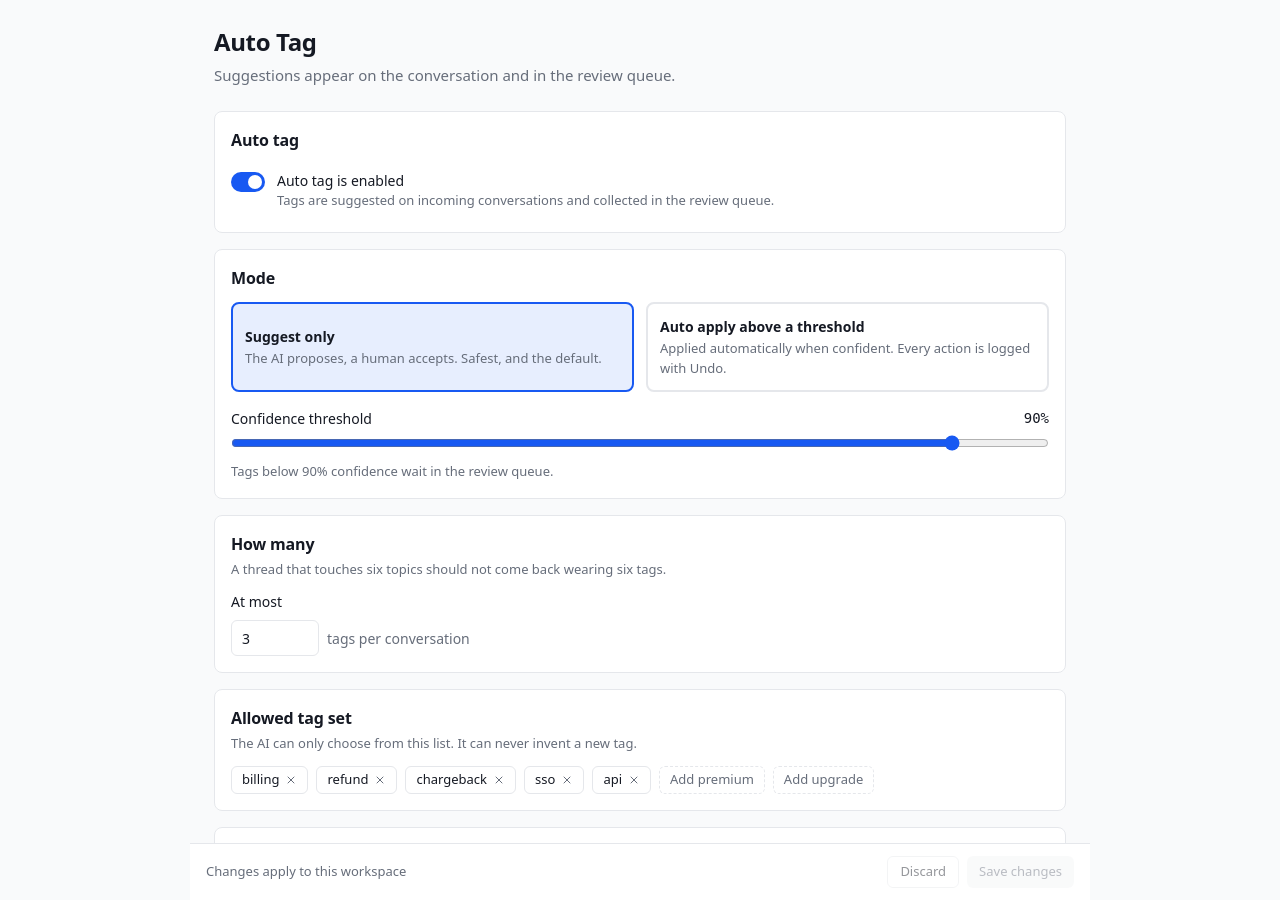
Test: the allowed tag set › keeps the save bar disabled until something actually changes
The image size is (1280, 900).
Expected: the button "Save changes" is disabled, [967, 856, 1074, 888]
Click the button named "remove ". click: (292, 780)
box: [286, 774, 298, 786]
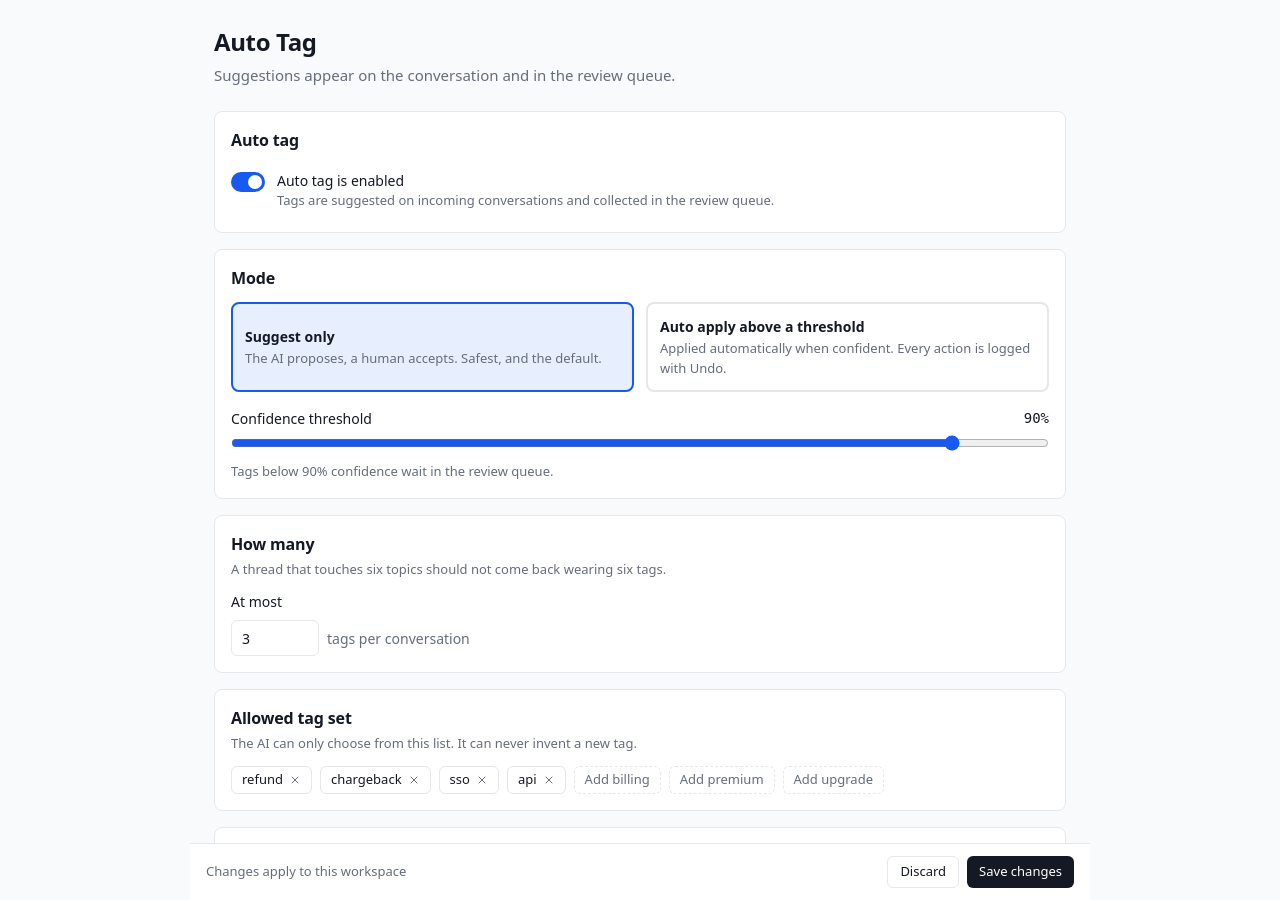
Now the button "Save changes" is enabled, box [967, 856, 1074, 888]
